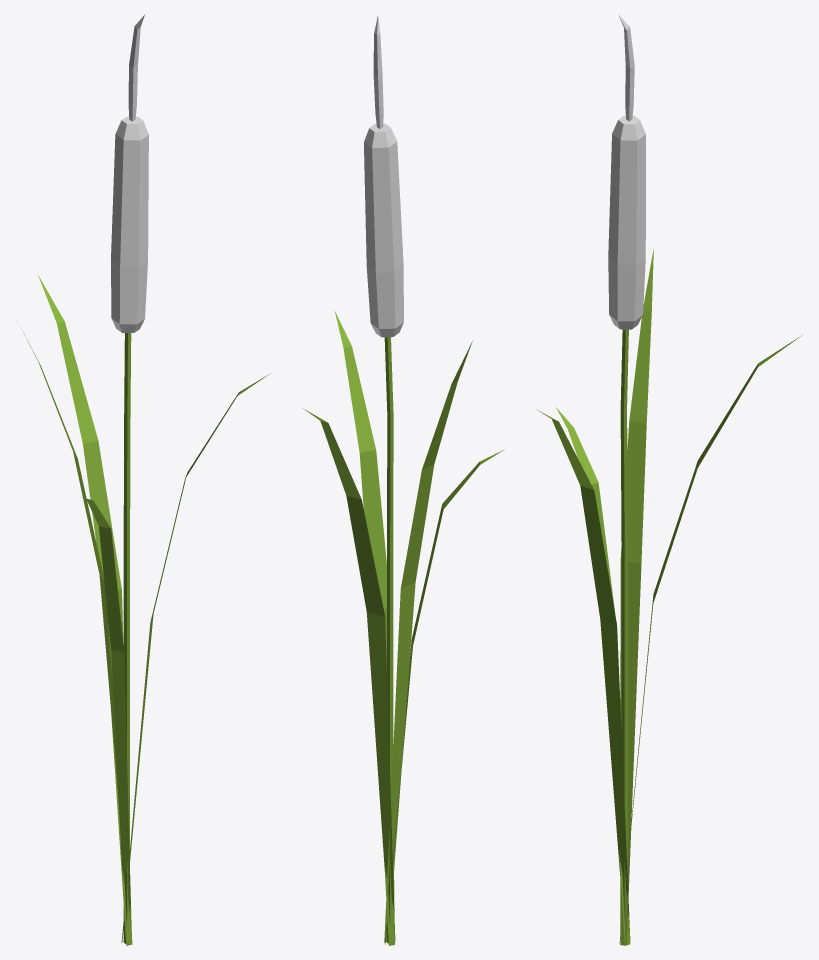
Rendered from SM_Cattail_Single_Mature_A.fbx.
3 views of the same model, side by side, from view 1: azimuth 30°, elevation 25°; view 2: azimuth 150°, elevation 25°; view 3: azimuth 270°, elevation 25° (orthographic).
Parts seen in each view (by area): view 1: cattail-single-mature-a; view 2: cattail-single-mature-a; view 3: cattail-single-mature-a.
Part boxes in pixels (x1,y1,x2,y2): cattail-single-mature-a: (17, 15, 270, 945); cattail-single-mature-a: (303, 14, 504, 945); cattail-single-mature-a: (536, 14, 801, 945).
Bounding box in the file's own units: 0.4564 × 2.03 × 0.5332.
